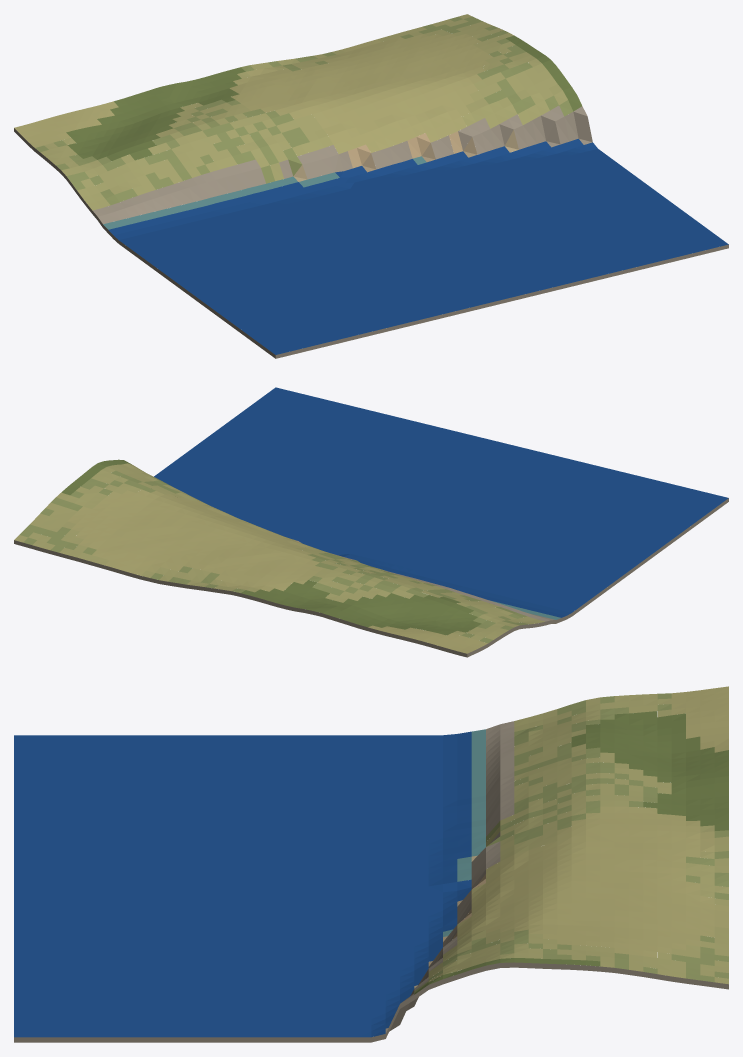
File: parca_+0_-9-uzak.glb
3 renders of one model, top to bottom at view 1: azimuth 30°, elevation 25°; view 2: azimuth 150°, elevation 25°; view 3: azimuth 270°, elevation 25°, orthographic. The views are drawn at different scales.
Visible parts, largest first — view 1: parca_+0_-9_arazi_uzak; view 2: parca_+0_-9_arazi_uzak; view 3: parca_+0_-9_arazi_uzak.
Boxes of the visible parts, left/top/right/bottom form: parca_+0_-9_arazi_uzak: left=14, top=14, right=728, bottom=358; parca_+0_-9_arazi_uzak: left=14, top=387, right=728, bottom=657; parca_+0_-9_arazi_uzak: left=14, top=686, right=728, bottom=1042.
Bounding box in the file's own units: 1000 × 124 × 1000.
